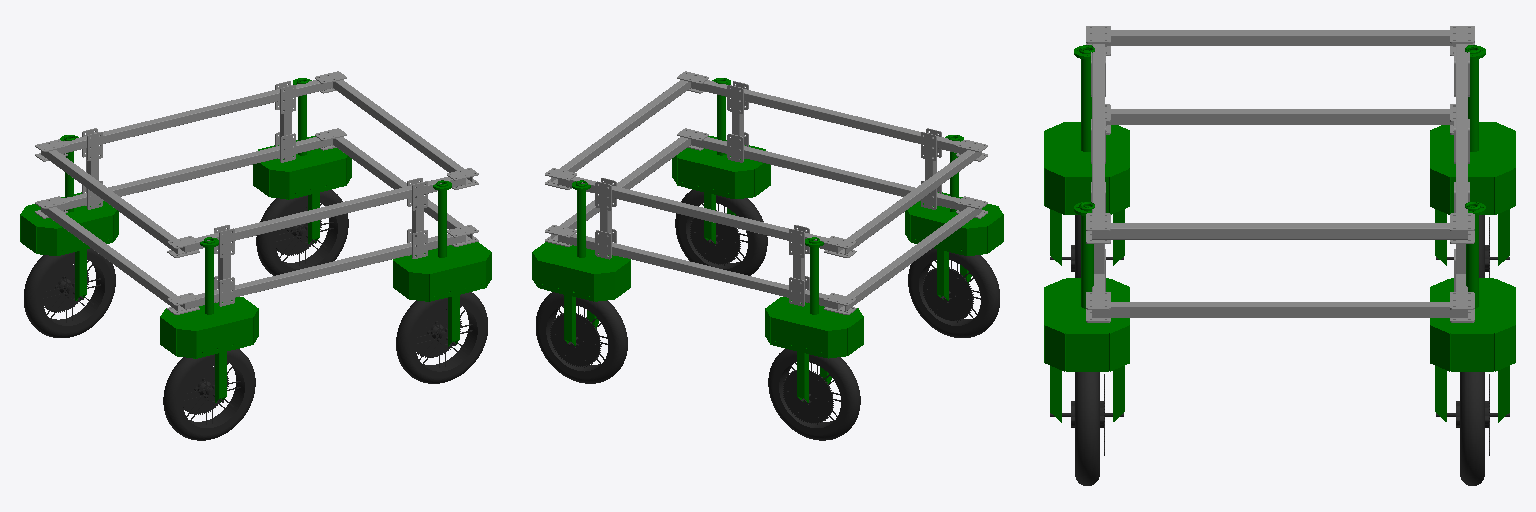
URDF robot description (pfr_robot):
<?xml version="1.0" ?>
<robot name="pfr_robot">

<!-- Materials -->

    <material name="ChassisMaterial">
        <color rgba="0.6 0.6 0.6 1"/>
    </material>

    <material name="ForkMaterial">
        <color rgba="0.0 0.5 0.0 1"/> <!-- Medium green -->
    </material>

    <material name="WheelMaterial">
        <color rgba="0.2 0.2 0.2 1"/>
    </material>

<!-- Links -->

    <!-- Chassis -->
    <link name="base_link">
        <inertial>
            <origin rpy="0 0 0" xyz="0 0 0"/>
            <mass value="31.726"/>
            <inertia ixx="14.69967178219" ixy="9.034e-14" ixz="1.250e-13" 
                     iyy="18.23" iyz="3.749e-12" izz="31.10"/>
        </inertial>
        <visual>
            <origin rpy="0 0 0" xyz="0 0 0"/>
            <geometry>
                <mesh filename="package://pfr_urdf_ws/src/urdf/meshes/frame_assembly.stl"/>
            </geometry>
            <material name="ChassisMaterial"/>
        </visual>
        <collision>
            <origin rpy="0 0 0" xyz="0 0 0"/>
            <geometry>
                <mesh filename="package://pfr_urdf_ws/src/urdf/meshes/frame_assembly.stl"/>
            </geometry>
        </collision>
    </link>


<!-- Forks -->

    <link name="front_right_fork">
        <inertial>
            <mass value="20.664"/>
            <inertia ixx="0.748741229" ixy="0.017262554" ixz="-0.011181714" 
                     iyy="0.577270351" iyz="0.044985592" izz="0.577720988"/>
        </inertial>
        <visual>
            <geometry>
                <mesh filename="package://pfr_urdf_ws/src/urdf/meshes/fork_assembly.stl"/>
            </geometry>
            <material name="ForkMaterial"/>
        </visual>
        <collision>
            <geometry>
                <mesh filename="package://pfr_urdf_ws/src/urdf/meshes/fork_assembly.stl"/>
            </geometry>
        </collision>
    </link>

    <link name="front_left_fork">
        <inertial>
            <mass value="20.664"/>
            <inertia ixx="0.748741229" ixy="0.017262554" ixz="-0.011181714" 
                     iyy="0.577270351" iyz="0.044985592" izz="0.577720988"/>
        </inertial>
        <visual>
            <geometry>
                <mesh filename="package://pfr_urdf_ws/src/urdf/meshes/fork_assembly.stl"/>
            </geometry>
            <material name="ForkMaterial"/>
        </visual>
        <collision>
            <geometry>
                <mesh filename="package://pfr_urdf_ws/src/urdf/meshes/fork_assembly.stl"/>
            </geometry>
        </collision>
    </link>

    <link name="rear_right_fork">
        <inertial>
            <mass value="20.664"/>
            <inertia ixx="0.748741229" ixy="0.017262554" ixz="-0.011181714" 
                     iyy="0.577270351" iyz="0.044985592" izz="0.577720988"/>
        </inertial>
        <visual>
            <geometry>
                <mesh filename="package://pfr_urdf_ws/src/urdf/meshes/fork_assembly.stl"/>
            </geometry>
            <material name="ForkMaterial"/>
        </visual>
        <collision>
            <geometry>
                <mesh filename="package://pfr_urdf_ws/src/urdf/meshes/fork_assembly.stl"/>
            </geometry>
        </collision>
    </link>

    <link name="rear_left_fork">
        <inertial>
            <mass value="20.664"/>
            <inertia ixx="0.748741229" ixy="0.017262554" ixz="-0.011181714" 
                     iyy="0.577270351" iyz="0.044985592" izz="0.577720988"/>
        </inertial>
        <visual>
            <geometry>
                <mesh filename="package://pfr_urdf_ws/src/urdf/meshes/fork_assembly.stl"/>
            </geometry>
            <material name="ForkMaterial"/>
        </visual>
        <collision>
            <geometry>
                <mesh filename="package://pfr_urdf_ws/src/urdf/meshes/fork_assembly.stl"/>
            </geometry>
        </collision>
    </link>

<!-- Wheels -->

    <link name="front_right_wheel">
        <inertial>
            <mass value="18.825"/>
            <inertia ixx="0.51318866" ixy="-6.46e-7" ixz="-3.08e-7" 
                     iyy="0.513187519" iyz="-8.3026e-5" izz="0.98574484"/>
        </inertial>
        <visual>
            <geometry>
                <mesh filename="package://pfr_urdf_ws/src/urdf/meshes/wheel_assembly.stl"/>
            </geometry>
            <material name="WheelMaterial"/>
        </visual>
        <collision>
            <geometry>
                <mesh filename="package://pfr_urdf_ws/src/urdf/meshes/wheel_assembly.stl"/>
            </geometry>
        </collision>
    </link>    

    <link name="front_left_wheel">
        <inertial>
            <mass value="18.825"/>
            <inertia ixx="0.51318866" ixy="-6.46e-7" ixz="-3.08e-7" 
                     iyy="0.513187519" iyz="-8.3026e-5" izz="0.98574484"/>
        </inertial>
        <visual>
            <geometry>
                <mesh filename="package://pfr_urdf_ws/src/urdf/meshes/wheel_assembly.stl"/>
            </geometry>
            <material name="WheelMaterial"/>
        </visual>
        <collision>
            <geometry>
                <mesh filename="package://pfr_urdf_ws/src/urdf/meshes/wheel_assembly.stl"/>
            </geometry>
        </collision>
    </link>    

    <link name="rear_right_wheel">
        <inertial>
            <mass value="18.825"/>
            <inertia ixx="0.51318866" ixy="-6.46e-7" ixz="-3.08e-7" 
                     iyy="0.513187519" iyz="-8.3026e-5" izz="0.98574484"/>
        </inertial>
        <visual>
            <geometry>
                <mesh filename="package://pfr_urdf_ws/src/urdf/meshes/wheel_assembly.stl"/>
            </geometry>
            <material name="WheelMaterial"/>
        </visual>
        <collision>
            <geometry>
                <mesh filename="package://pfr_urdf_ws/src/urdf/meshes/wheel_assembly.stl"/>
            </geometry>
        </collision>
    </link>    

    <link name="rear_left_wheel">
        <inertial>
            <mass value="18.825"/>
            <inertia ixx="0.51318866" ixy="-6.46e-7" ixz="-3.08e-7" 
                     iyy="0.513187519" iyz="-8.3026e-5" izz="0.98574484"/>
        </inertial>
        <visual>
            <geometry>
                <mesh filename="package://pfr_urdf_ws/src/urdf/meshes/wheel_assembly.stl"/>
            </geometry>
            <material name="WheelMaterial"/>
        </visual>
        <collision>
            <geometry>
                <mesh filename="package://pfr_urdf_ws/src/urdf/meshes/wheel_assembly.stl"/>
            </geometry>
        </collision>
    </link>    

<!-- Joints -->

    <joint name="front_right_fork_joint" type="revolute">
        <parent link="base_link"/>
        <child link="front_right_fork"/>
        <origin xyz="0.75 -0.78 -0.42" rpy="0 0 1.571"/>
        <axis xyz="0 0 1"/>
        <limit lower="-3.14159" upper="3.14159" effort="10" velocity="1.0"/>
    </joint>

    <joint name="front_left_fork_joint" type="revolute">
        <parent link="base_link"/>
        <child link="front_left_fork"/>
        <origin xyz="0.75 0.78 -0.42" rpy="0 0 1.571"/>
        <axis xyz="0 0 1"/>
        <limit lower="-3.14159" upper="3.14159" effort="10" velocity="1.0"/>
    </joint>

    <joint name="rear_right_fork_joint" type="revolute">
        <parent link="base_link"/>
        <child link="rear_right_fork"/>
        <origin xyz="-0.75 -0.78 -0.42" rpy="0 0 1.571"/>
        <axis xyz="0 0 1"/>
        <limit lower="-3.14159" upper="3.14159" effort="10" velocity="1.0"/>
    </joint>

    <joint name="rear_left_fork_joint" type="revolute">
        <parent link="base_link"/>
        <child link="rear_left_fork"/>
        <origin xyz="-0.75 0.78 -0.42" rpy="0 0 1.571"/>
        <axis xyz="0 0 1"/>
        <limit lower="-3.14159" upper="3.14159" effort="10" velocity="1.0"/>
    </joint>

    <joint name="front_right_wheel_joint" type="revolute">
        <parent link="front_right_fork"/>
        <child link="front_right_wheel"/>
        <origin xyz="0 0 -0.31" rpy="0 1.571 0"/> 
        <axis xyz="0 0 1"/>
        <limit lower="-1e10" upper="1e10" effort="150" velocity="30.0"/>
    </joint>

    <joint name="front_left_wheel_joint" type="revolute">
        <parent link="front_left_fork"/>
        <child link="front_left_wheel"/>
        <origin xyz="0 0 -0.31" rpy="0 1.571 0"/> 
        <axis xyz="0 0 1"/>
        <limit lower="-1e10" upper="1e10" effort="150" velocity="30.0"/>
    </joint>

    <joint name="rear_right_wheel_joint" type="revolute">
        <parent link="rear_right_fork"/>
        <child link="rear_right_wheel"/>
        <origin xyz="0 0 -0.31" rpy="0 1.571 0"/> 
        <axis xyz="0 0 1"/>
        <limit lower="-1e10" upper="1e10" effort="150" velocity="30.0"/>
    </joint>

    <joint name="rear_left_wheel_joint" type="revolute">
        <parent link="rear_left_fork"/>
        <child link="rear_left_wheel"/>
        <origin xyz="0 0 -0.31" rpy="0 1.571 0"/> 
        <axis xyz="0 0 1"/>
        <limit lower="-1e10" upper="1e10" effort="150" velocity="30.0"/>
    </joint>

</robot>

--- Render facts (derived) ---
3 views of the same robot in one strip: view 1: azimuth 30°, elevation 25°; view 2: azimuth 150°, elevation 25°; view 3: azimuth 270°, elevation 25° (orthographic).
Model pfr_robot with 9 links and 8 joints (8 revolute), rooted at base_link, posed all joints at 0.
Visible links, largest first — view 1: base_link, rear_right_fork, front_right_fork, front_right_wheel, rear_right_wheel, rear_left_wheel, front_left_fork, rear_left_fork, front_left_wheel; view 2: base_link, rear_left_fork, front_left_fork, rear_left_wheel, front_left_wheel, rear_right_wheel, front_right_fork, rear_right_fork, front_right_wheel; view 3: base_link, front_right_fork, front_left_fork, rear_right_fork, rear_left_fork, front_right_wheel, front_left_wheel, rear_left_wheel, rear_right_wheel.
Link boxes in pixels (x1,y1,x2,y2): base_link: (35,71,478,314); rear_right_fork: (160,237,258,402); front_right_fork: (393,180,491,346); front_right_wheel: (396,292,487,383); rear_right_wheel: (163,349,255,440); rear_left_wheel: (24,248,115,337); front_left_fork: (253,78,351,243); rear_left_fork: (20,135,118,300); front_left_wheel: (256,190,348,275); base_link: (545,71,987,314); rear_left_fork: (765,237,863,402); front_left_fork: (532,180,630,345); rear_left_wheel: (768,349,860,440); front_left_wheel: (536,292,627,383); rear_right_wheel: (908,248,999,337); front_right_fork: (672,78,770,243); rear_right_fork: (905,135,1003,300); front_right_wheel: (675,190,767,275); base_link: (1086,26,1474,322); front_right_fork: (1044,202,1129,422); front_left_fork: (1430,202,1515,422); rear_right_fork: (1044,45,1129,265); rear_left_fork: (1430,45,1515,265); front_right_wheel: (1050,372,1123,485); front_left_wheel: (1436,372,1509,485); rear_left_wheel: (1436,215,1509,277); rear_right_wheel: (1050,215,1123,277).
Bounding box of the posed robot: 2.08 × 1.91 × 1.25 m (x, y, z).
9 mesh visuals loaded from 3 distinct referenced files (3 binary STL).